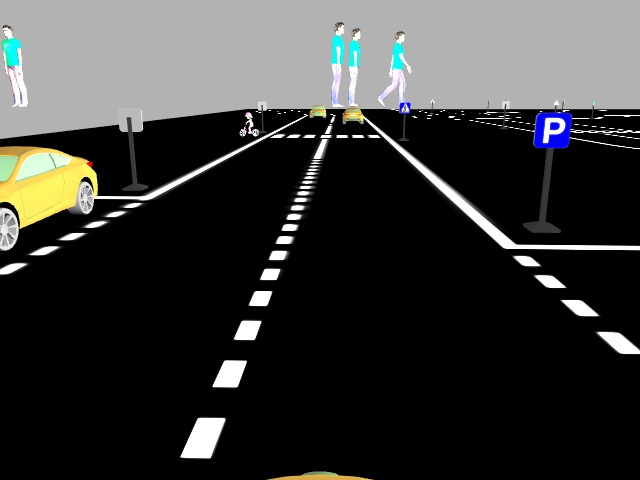Parking: (530, 109, 572, 151)
